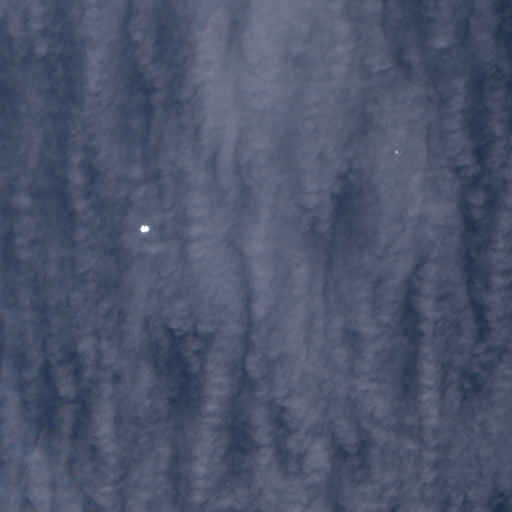Iceberg: (139, 225, 149, 232), (395, 150, 398, 153)
